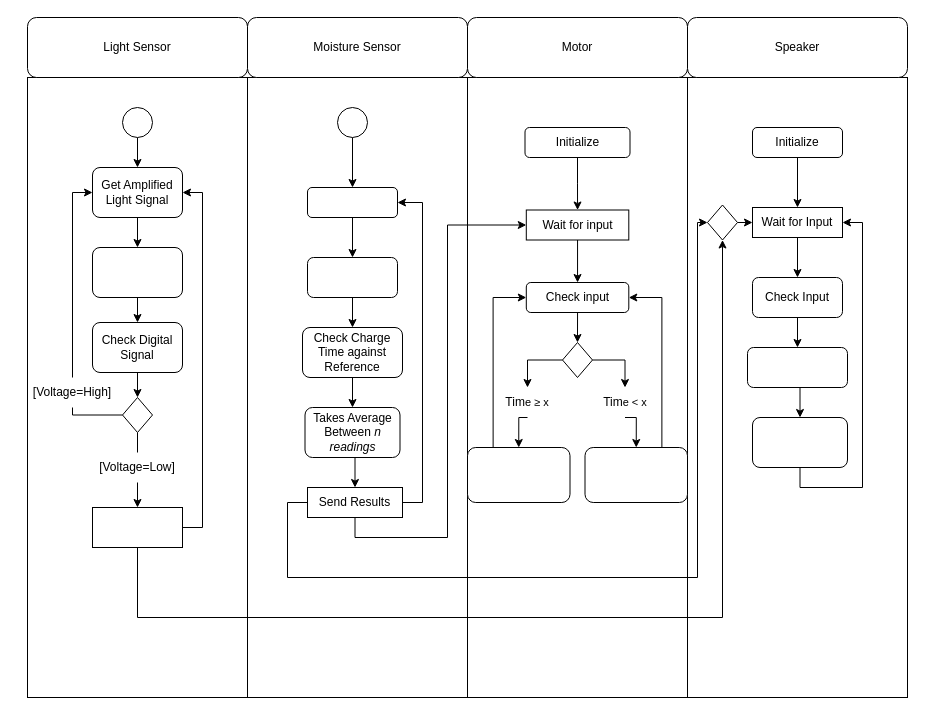
Some shapes in this 925 by 715 pixel diagram are drawn without their labels. Here are the shapes that lost their labels. From the top down, the box of each, then its label:
(306, 186, 398, 218): Sensor Reset
(92, 246, 182, 298): Analog to Digital Conversion
(306, 256, 398, 298): Track Charge Time
(746, 346, 848, 388): Start Sound
(752, 416, 848, 468): Stop Sound
(466, 446, 570, 502): Open valve (rotate motor clockwise)
(584, 446, 688, 502): Close valve (rotate motor anti-clockwise)
(92, 506, 182, 548): Send Low Light Digital Signal
